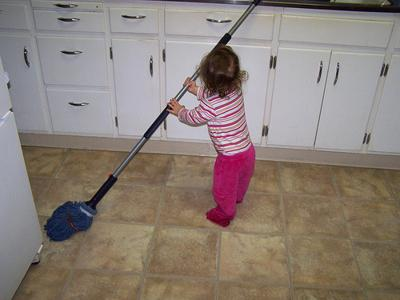person: (166, 44, 258, 229)
